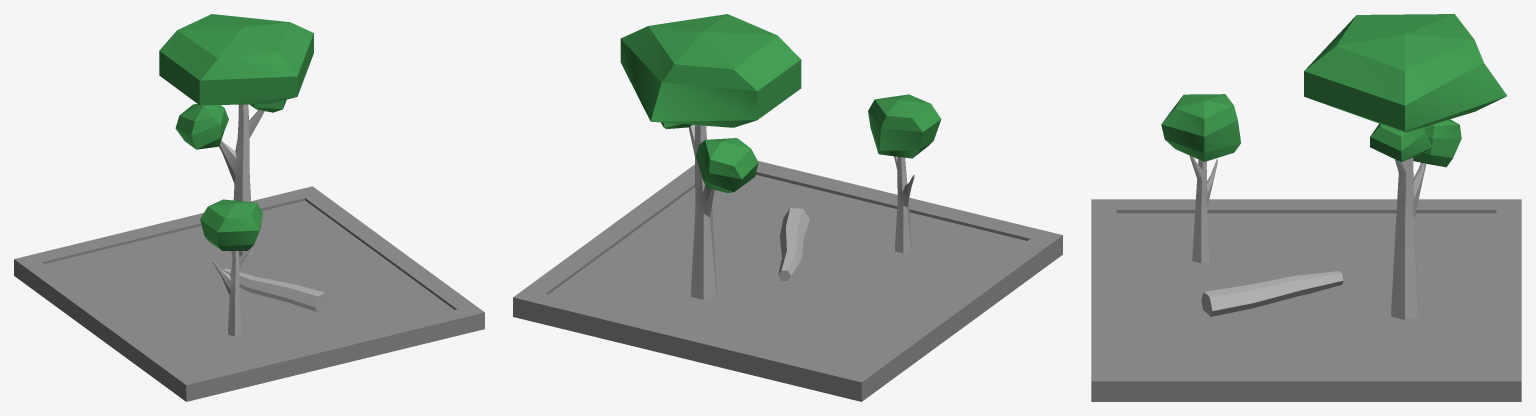
File: Environment1_Model.fbx
3 views of the same model, side by side, from view 1: azimuth 30°, elevation 25°; view 2: azimuth 150°, elevation 25°; view 3: azimuth 270°, elevation 25° (orthographic). The views are drawn at different scales.
Parts seen in each view (by area): view 1: pCube7, pSphere1, polySurface5, pCylinder1, pSphere3, pCylinder4, polySurface4; view 2: pCube7, pSphere1, polySurface5, pCylinder1, pSphere3, pCylinder4, polySurface4; view 3: pCube7, pSphere1, polySurface5, pCylinder1, pCylinder4, polySurface4, pSphere2, pSphere3.
Part boxes in pixels (x1,y1,x2,y2): pCube7: (14, 186, 484, 401); pSphere1: (159, 14, 313, 105); polySurface5: (200, 199, 262, 250); pCylinder1: (219, 104, 264, 256); pSphere3: (175, 104, 228, 149); pCylinder4: (223, 268, 328, 311); polySurface4: (213, 246, 252, 336); pCube7: (513, 161, 1062, 401); pSphere1: (620, 14, 801, 127); polySurface5: (868, 94, 941, 158); pCylinder1: (688, 125, 716, 299); pSphere3: (696, 138, 758, 192); pCylinder4: (778, 208, 809, 280); polySurface4: (894, 156, 914, 253); pCube7: (1091, 199, 1521, 401); pSphere1: (1304, 14, 1506, 132); polySurface5: (1161, 94, 1240, 161); pCylinder1: (1391, 157, 1426, 319); pCylinder4: (1201, 271, 1343, 316); polySurface4: (1189, 154, 1217, 263); pSphere2: (1370, 123, 1432, 162); pSphere3: (1413, 119, 1461, 167).
Size of the model in its own units: 22.06 by 16.81 by 22.06.
